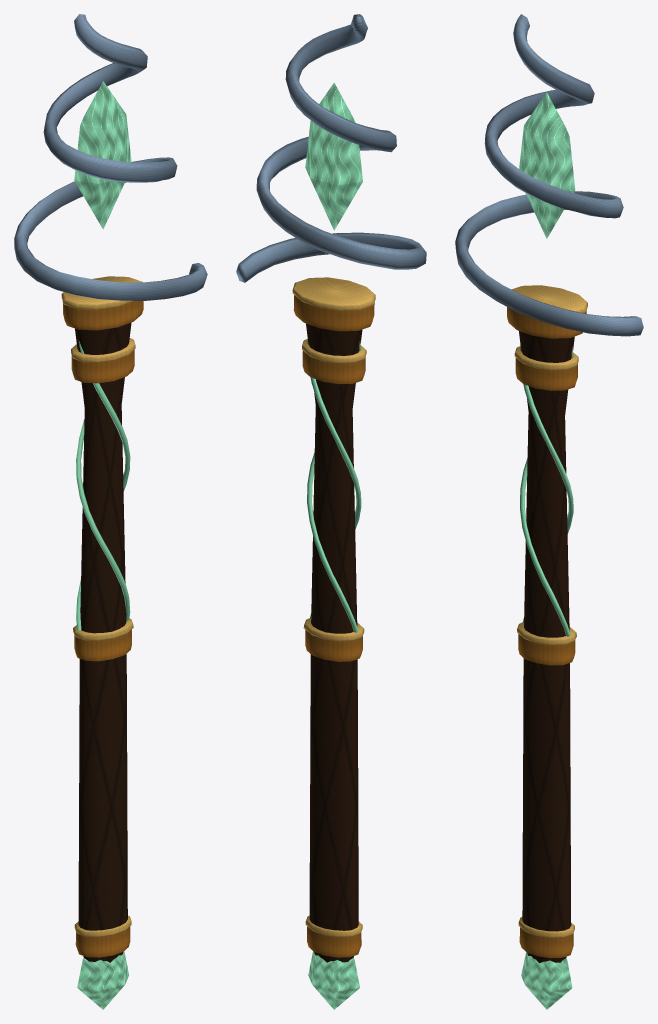
File: tornado_rod.glb
3 views of the same model, side by side, from view 1: azimuth 30°, elevation 25°; view 2: azimuth 150°, elevation 25°; view 3: azimuth 330°, elevation 25° (orthographic).
Parts seen in each view (by area): view 1: Leather wrapped grip, Open rising cyclone crown, Engraved metal collar (×4), Wind heart, Polished collar edge (×3), Spiral elemental shaft inlay (×2), Inset elemental pommel; view 2: Leather wrapped grip, Open rising cyclone crown, Engraved metal collar (×4), Wind heart, Polished collar edge (×3), Spiral elemental shaft inlay (×2), Inset elemental pommel; view 3: Leather wrapped grip, Open rising cyclone crown, Engraved metal collar (×4), Wind heart, Polished collar edge (×3), Spiral elemental shaft inlay (×2), Inset elemental pommel.
Part boxes in pixels (<box>): Leather wrapped grip: <box>75,322,131,962</box>; Open rising cyclone crown: <box>14,14,207,300</box>; Engraved metal collar (×4): <box>62,301,143,957</box>; Wind heart: <box>74,81,131,229</box>; Polished collar edge (×3): <box>61,276,142,640</box>; Spiral elemental shaft inlay (×2): <box>76,341,130,630</box>; Inset elemental pommel: <box>77,951,128,1009</box>; Leather wrapped grip: <box>306,323,362,962</box>; Open rising cyclone crown: <box>236,14,426,282</box>; Engraved metal collar (×4): <box>293,295,374,957</box>; Wind heart: <box>305,82,362,230</box>; Polished collar edge (×3): <box>292,277,375,641</box>; Spiral elemental shaft inlay (×2): <box>307,339,361,632</box>; Inset elemental pommel: <box>308,951,359,1009</box>; Leather wrapped grip: <box>519,331,574,963</box>; Open rising cyclone crown: <box>455,14,643,336</box>; Engraved metal collar (×4): <box>507,307,586,958</box>; Wind heart: <box>519,92,575,238</box>; Polished collar edge (×3): <box>511,285,587,645</box>; Spiral elemental shaft inlay (×2): <box>520,345,573,636</box>; Inset elemental pommel: <box>521,952,572,1009</box>.
Size of the model in its own units: 66.75 by 350 by 42.44.
6 materials, 6 textured.
